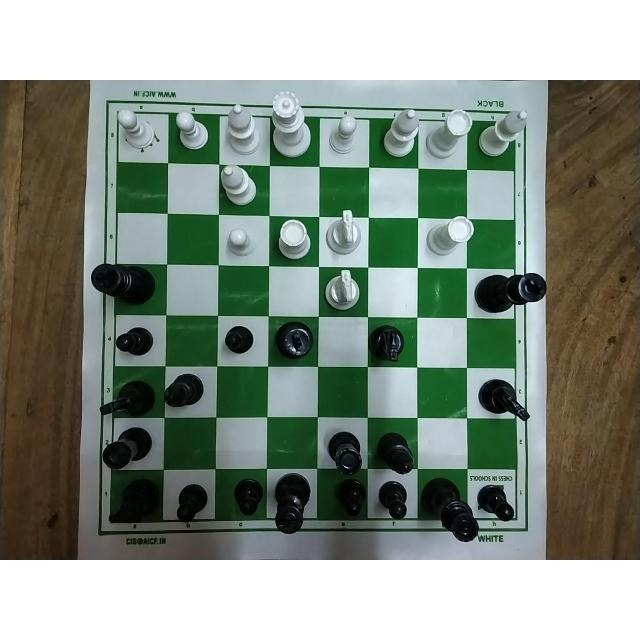black-bishop: (375, 430, 415, 474), (162, 371, 204, 406)
black-king: (474, 272, 546, 313), (89, 262, 155, 305), (274, 471, 310, 532), (274, 321, 314, 361)
black-knight: (106, 478, 164, 526), (476, 374, 532, 422), (97, 380, 157, 416), (368, 322, 404, 363)
black-pawn: (477, 485, 516, 521), (230, 477, 264, 516), (175, 483, 209, 521), (377, 480, 410, 519), (113, 323, 153, 355), (334, 480, 366, 516), (222, 324, 254, 356)
black-queen: (420, 475, 480, 543)
black-rook: (101, 426, 152, 471), (325, 429, 362, 475)
white-bishop: (477, 108, 526, 157), (381, 107, 420, 161), (225, 102, 260, 154), (218, 161, 255, 205)
white-knight: (323, 207, 362, 255), (323, 267, 361, 312)
white-pawn: (113, 109, 154, 149), (172, 108, 207, 150), (327, 112, 359, 155), (224, 226, 256, 258)
white-queen: (271, 90, 313, 159)
white-rook: (427, 106, 473, 159), (424, 215, 473, 257), (273, 218, 310, 261)
